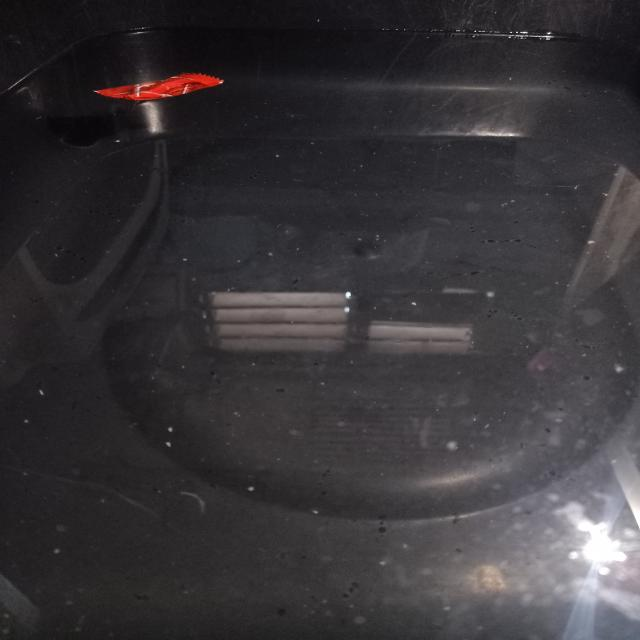Plastic Wrapper: (94, 73, 223, 101)
